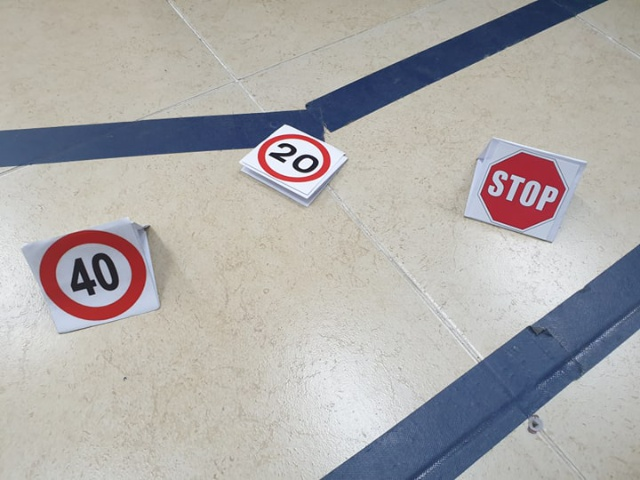Limit 20: (261, 134, 329, 185)
Limit 40: (40, 232, 145, 320)
Stop: (483, 151, 567, 229)
